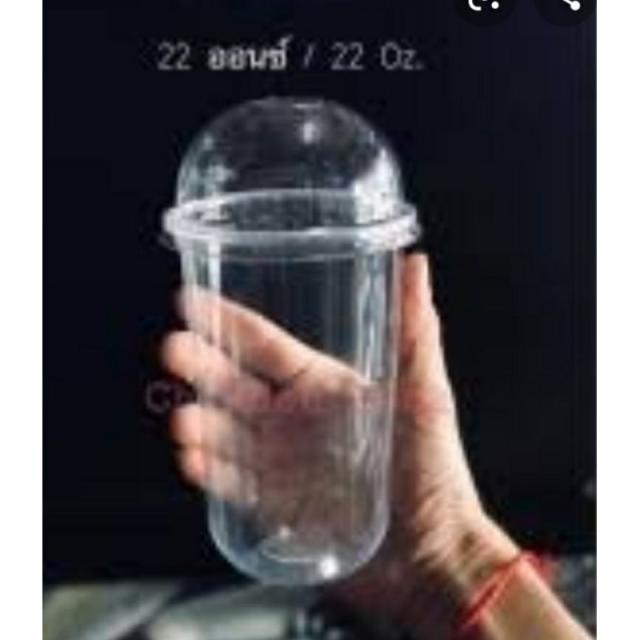cup: (162, 98, 422, 588)
